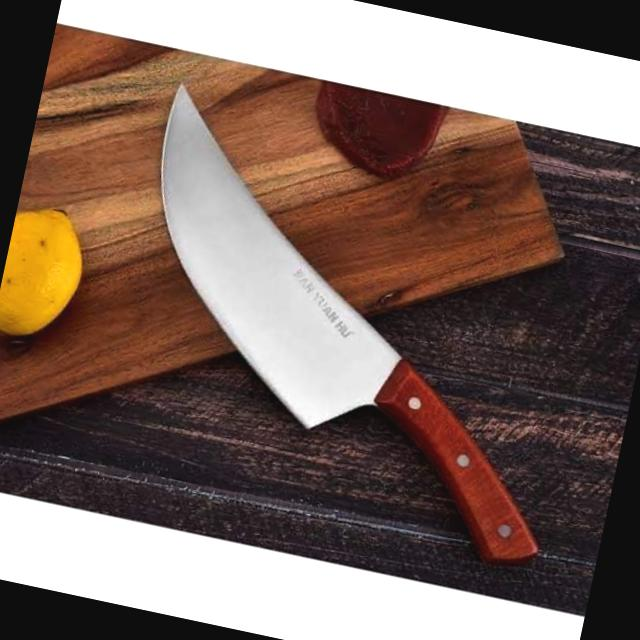knife: (77, 71, 622, 586)
